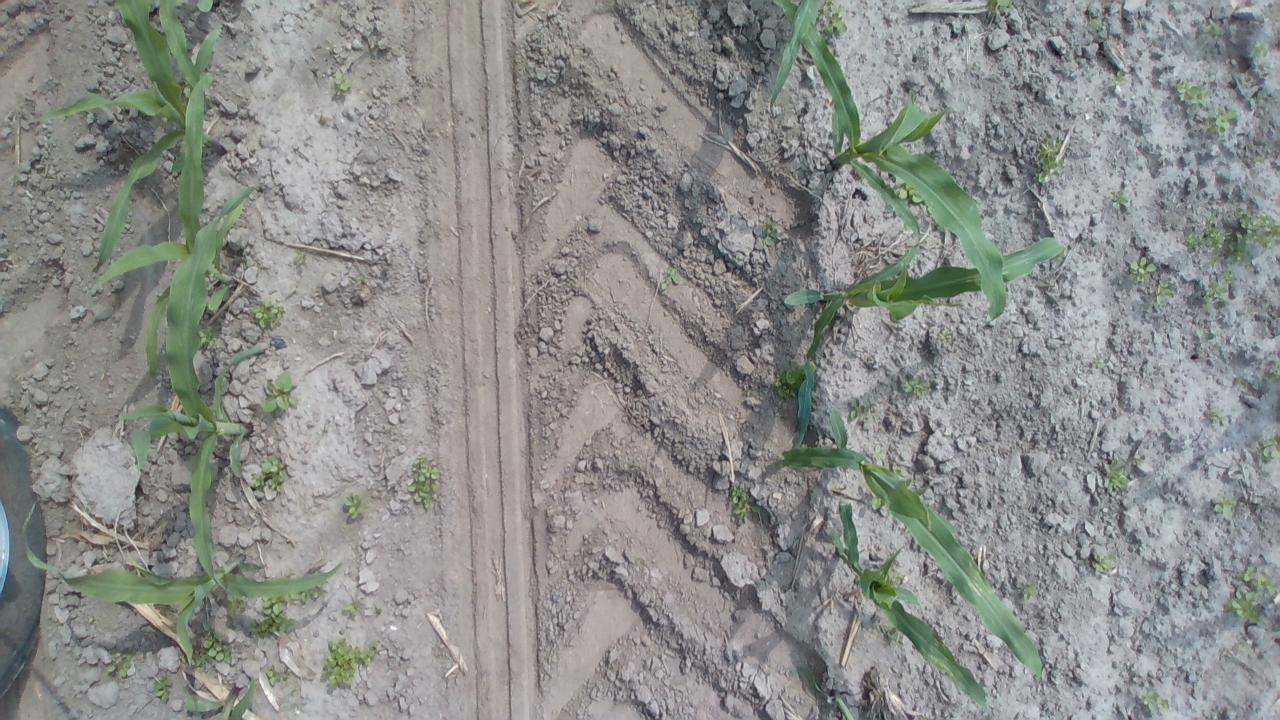Maize: (772, 0, 1008, 328), (784, 407, 1042, 683), (116, 186, 263, 592), (783, 237, 1065, 448), (34, 0, 231, 275), (21, 502, 344, 666), (90, 72, 244, 380), (830, 496, 989, 708), (770, 0, 818, 114), (794, 664, 856, 720), (182, 674, 255, 720), (197, 0, 214, 12)
Weeds: (1185, 206, 1280, 268), (1228, 564, 1280, 624), (318, 637, 378, 687), (406, 450, 440, 509), (249, 598, 294, 642), (194, 620, 234, 668), (1036, 136, 1067, 187), (264, 371, 298, 414), (729, 485, 760, 527), (1198, 103, 1236, 136), (1175, 78, 1214, 110), (253, 456, 286, 492), (1097, 458, 1130, 493), (250, 300, 285, 332), (1138, 685, 1174, 715), (106, 645, 136, 679), (818, 1, 848, 34), (1128, 255, 1158, 285), (1200, 280, 1230, 310), (846, 396, 880, 422), (1210, 491, 1240, 520), (772, 366, 798, 398), (1148, 278, 1176, 306), (1253, 433, 1280, 462), (344, 492, 369, 520), (904, 373, 934, 396), (1090, 548, 1116, 574), (151, 674, 174, 703), (332, 68, 352, 101), (1248, 85, 1270, 114), (226, 595, 251, 618), (1199, 18, 1227, 38), (658, 266, 681, 290), (266, 663, 286, 687), (1108, 189, 1129, 211), (1208, 409, 1232, 426), (1194, 326, 1212, 348), (1251, 40, 1270, 60), (764, 220, 779, 245), (987, 0, 1012, 14), (866, 442, 884, 461), (199, 325, 216, 345), (295, 591, 319, 604), (1021, 584, 1038, 602), (321, 38, 337, 57), (1109, 69, 1128, 85), (344, 598, 360, 616), (893, 182, 909, 199), (1219, 268, 1236, 284), (1269, 360, 1280, 383), (1089, 15, 1103, 32), (292, 250, 306, 266), (1132, 452, 1149, 465), (909, 189, 923, 204), (748, 384, 762, 398), (938, 328, 954, 340), (1094, 358, 1108, 370), (356, 275, 366, 285), (89, 615, 95, 625)
